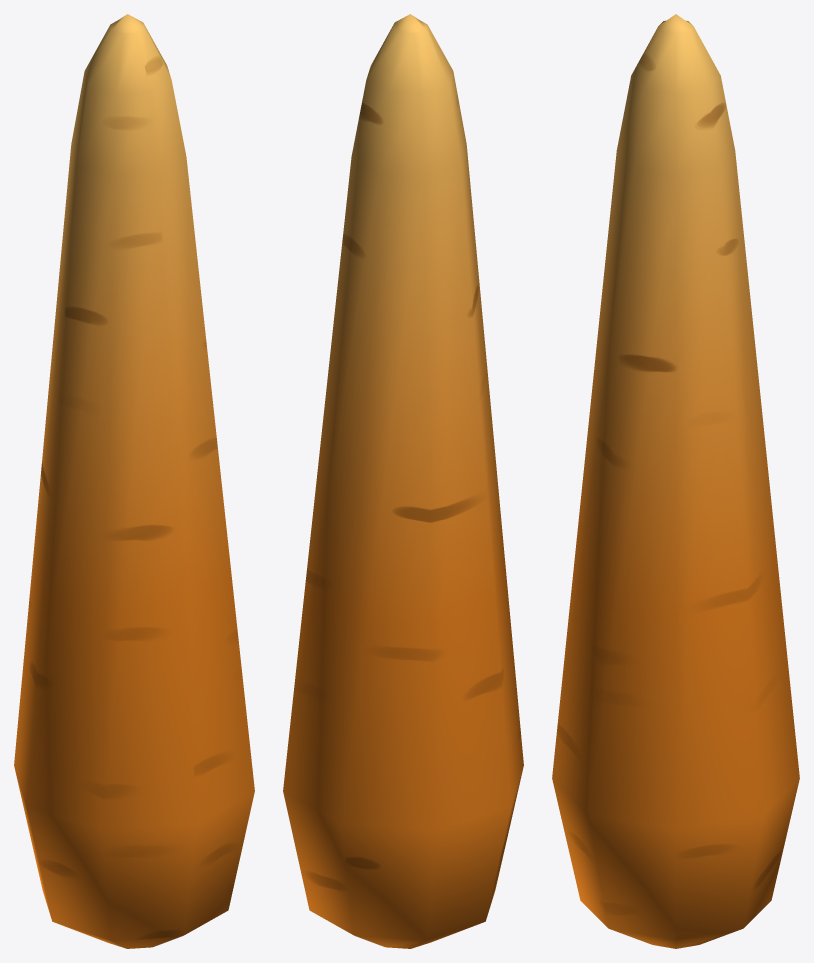
Rendered from carrot.glb.
3 renders of one model, left to right at view 1: azimuth 30°, elevation 25°; view 2: azimuth 150°, elevation 25°; view 3: azimuth 270°, elevation 25°, orthographic.
Visible parts, largest first — view 1: Carrot; view 2: Carrot; view 3: Carrot.
Boxes of the visible parts, x1=… form: Carrot: x1=14, y1=14, x2=254, y2=948; Carrot: x1=283, y1=14, x2=523, y2=948; Carrot: x1=552, y1=14, x2=799, y2=948.
Size of the model in its own units: 0.9082 by 3.74 by 0.9082.
Materials: 1 (1 with a texture image).
